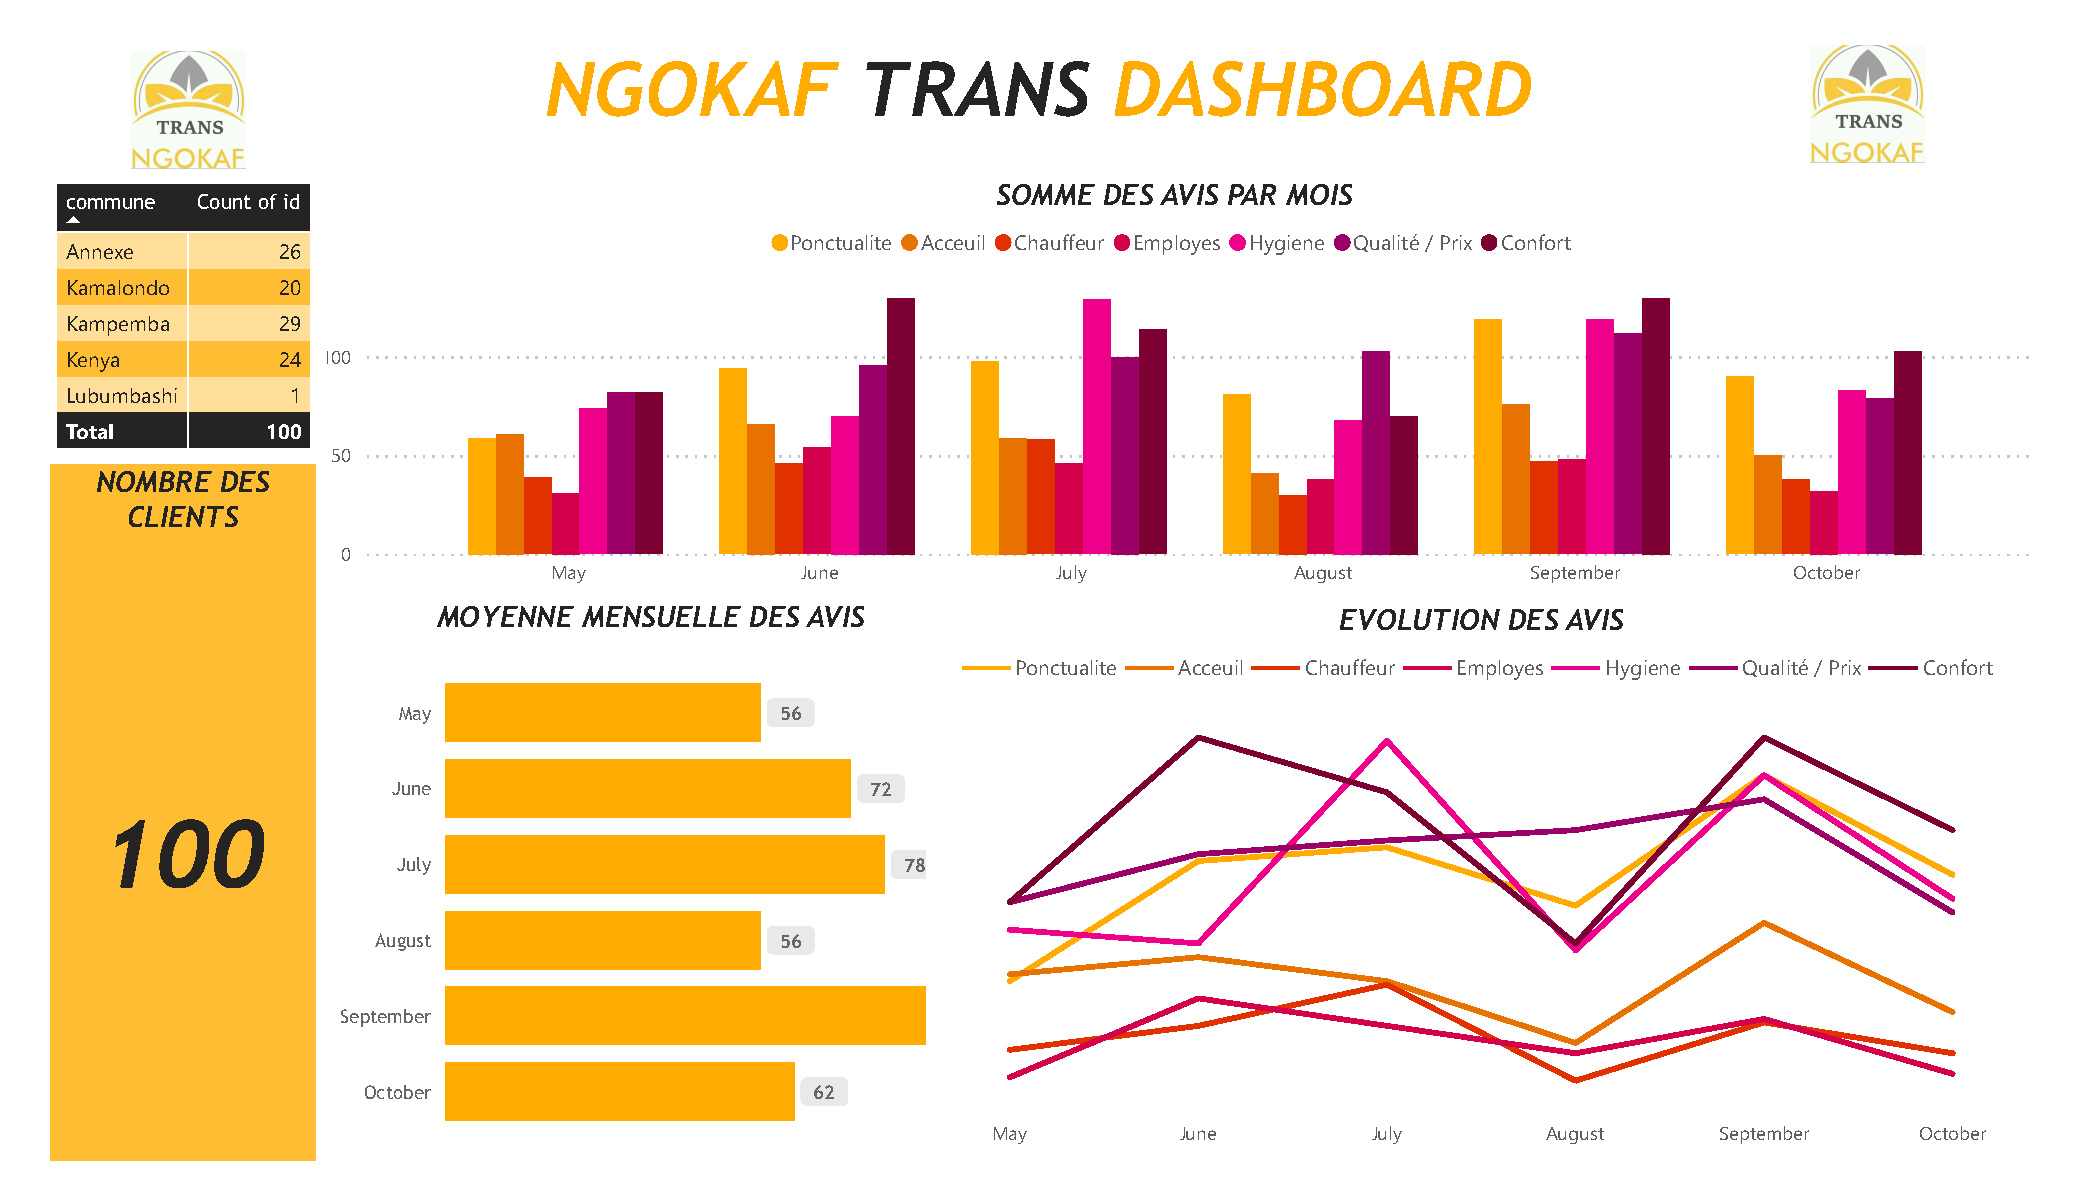

What the dashboard file says about the page in this screenshot:
{"tool":"powerbi","page":{"name":"Tableau de bord - Avis","canvas":[1280,720],"ordinal":0},"visuals":[{"type":"clusteredColumnChart","title":"SOMME DES AVIS PAR MOIS","fields":{"Y":["Sum(avis.ponctualite)","Sum(avis.qualite_acceuil)","Sum(avis.qualite_chauffeur)","Sum(avis.qualite_employes)","Sum(avis.qualite_hygiene)","Sum(avis.qualite_prix)","Sum(avis.qualite_siege)"],"Category":["dim_temps.Date.Variation.Date Hierarchy.Month"]},"box":[176.1,88.8,1103.2,271.9],"z":0},{"type":"clusteredBarChart","title":"MOYENNE MENSUELLE DES AVIS","fields":{"Category":["dim_temps.Date.Variation.Date Hierarchy.Month"],"Y":["Sum(avis.moyenne)"]},"box":[184.6,359.3,415.7,359.3],"z":1000},{"type":"image","box":[55,0,83.1,84.5],"z":2000},{"type":"textbox","box":[290.1,0,700.7,66.7],"z":3000},{"type":"lineChart","title":"EVOLUTION DES AVIS","fields":{"Category":["dim_temps.Date.Variation.Date Hierarchy.Month"],"Y":["Sum(avis.ponctualite)","Sum(avis.qualite_acceuil)","Sum(avis.qualite_chauffeur)","Sum(avis.qualite_employes)","Sum(avis.qualite_hygiene)","Sum(avis.qualite_prix)","Sum(avis.qualite_siege)"]},"box":[569.2,360.7,710.1,359.3],"z":4000},{"type":"image","box":[1121.6,0,83.1,84.5],"z":5000},{"type":"card","title":"NOMBRE DES CLIENTS","fields":{"Values":["CountNonNull(avis.client_id)"]},"box":[8.5,271.9,167.7,448.1],"z":6000},{"type":"pivotTable","fields":{"Rows":["client.commune"],"Values":["CountNonNull(client.id)"]},"box":[8.5,88.8,176.1,183.2],"z":8000}]}

Visuals, with their boxes in screenshot pixels (x1, y1, x2, y2):
"SOMME DES AVIS PAR MOIS" clusteredColumnChart: <region>313, 176, 2036, 601</region>
"MOYENNE MENSUELLE DES AVIS" clusteredBarChart: <region>326, 599, 975, 1160</region>
image: <region>123, 38, 253, 170</region>
textbox: <region>491, 38, 1586, 142</region>
"EVOLUTION DES AVIS" lineChart: <region>927, 601, 2036, 1162</region>
image: <region>1790, 38, 1920, 170</region>
"NOMBRE DES CLIENTS" card: <region>51, 462, 313, 1162</region>
pivotTable - client.commune x CountNonNull(client.id): <region>51, 176, 326, 462</region>
